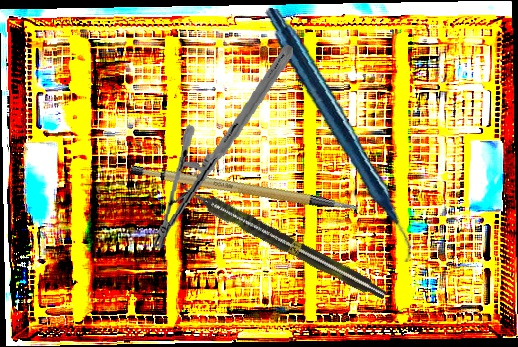Handpiece: (241, 7, 435, 263), (175, 178, 390, 304)
Needle Holder: (152, 34, 294, 261)
Scalpel Handle: (128, 134, 361, 248)
